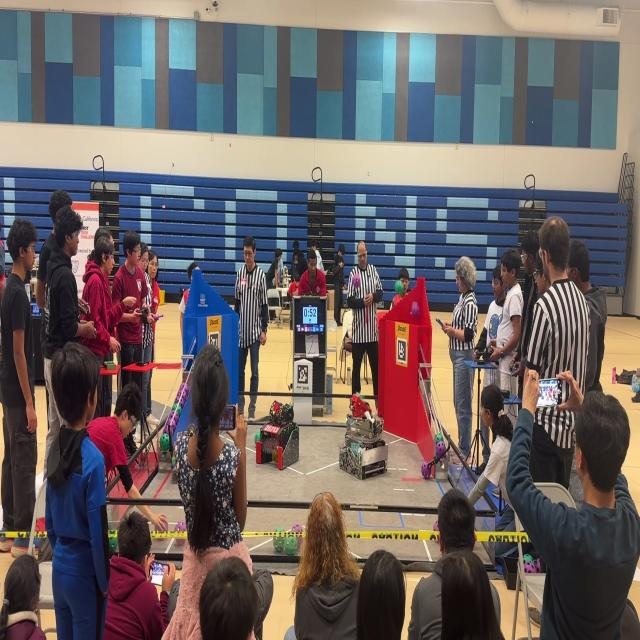artifact_green: (285, 536, 297, 555), (435, 441, 446, 461), (421, 461, 432, 479), (165, 411, 175, 430), (160, 434, 170, 453), (169, 412, 178, 432), (273, 537, 285, 552), (631, 373, 639, 393), (351, 271, 360, 288), (411, 302, 419, 319), (175, 388, 185, 401), (109, 537, 117, 552), (535, 557, 542, 574), (395, 280, 403, 294), (176, 389, 184, 403), (175, 393, 184, 405), (523, 554, 533, 564), (292, 524, 303, 533), (180, 386, 188, 398), (188, 424, 195, 437), (174, 395, 181, 407), (435, 433, 443, 443), (255, 431, 261, 443), (179, 396, 185, 408), (183, 383, 189, 395), (176, 406, 182, 417), (177, 404, 183, 415), (178, 383, 184, 394), (160, 453, 167, 461), (163, 423, 168, 434), (179, 382, 186, 389), (171, 456, 175, 468), (172, 403, 178, 410), (360, 395, 366, 401)
artifact_purple: (435, 441, 446, 458), (166, 411, 176, 429), (421, 461, 430, 479), (524, 562, 537, 573), (352, 272, 360, 288), (170, 414, 177, 432), (172, 408, 180, 423), (535, 557, 542, 573), (412, 302, 419, 318), (165, 417, 171, 434), (176, 389, 184, 401), (292, 524, 302, 533), (180, 392, 187, 404), (176, 387, 182, 401), (175, 391, 182, 403), (175, 390, 182, 402), (523, 554, 533, 562), (178, 388, 186, 398), (163, 422, 169, 434), (176, 539, 186, 546), (184, 383, 189, 395), (176, 406, 181, 417), (172, 400, 177, 411), (180, 397, 185, 408), (433, 520, 438, 531), (179, 382, 185, 390), (179, 382, 185, 389)
